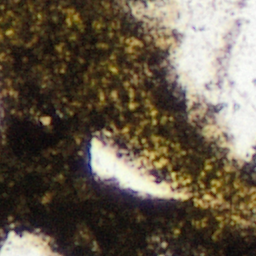cement_matrix: (0, 0, 255, 255), (88, 135, 190, 200), (199, 195, 218, 204)
gravel_crushed_stones: (129, 0, 255, 163), (89, 136, 189, 199), (0, 232, 58, 255), (200, 196, 217, 203)
